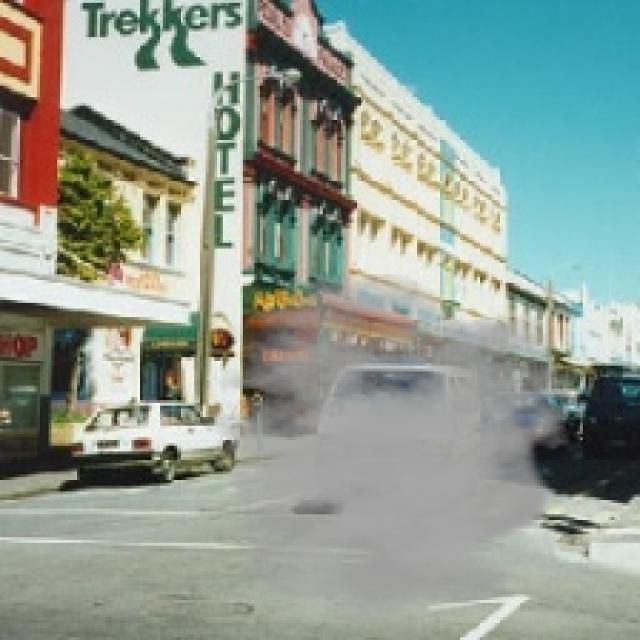Smoke: (174, 272, 586, 622)
